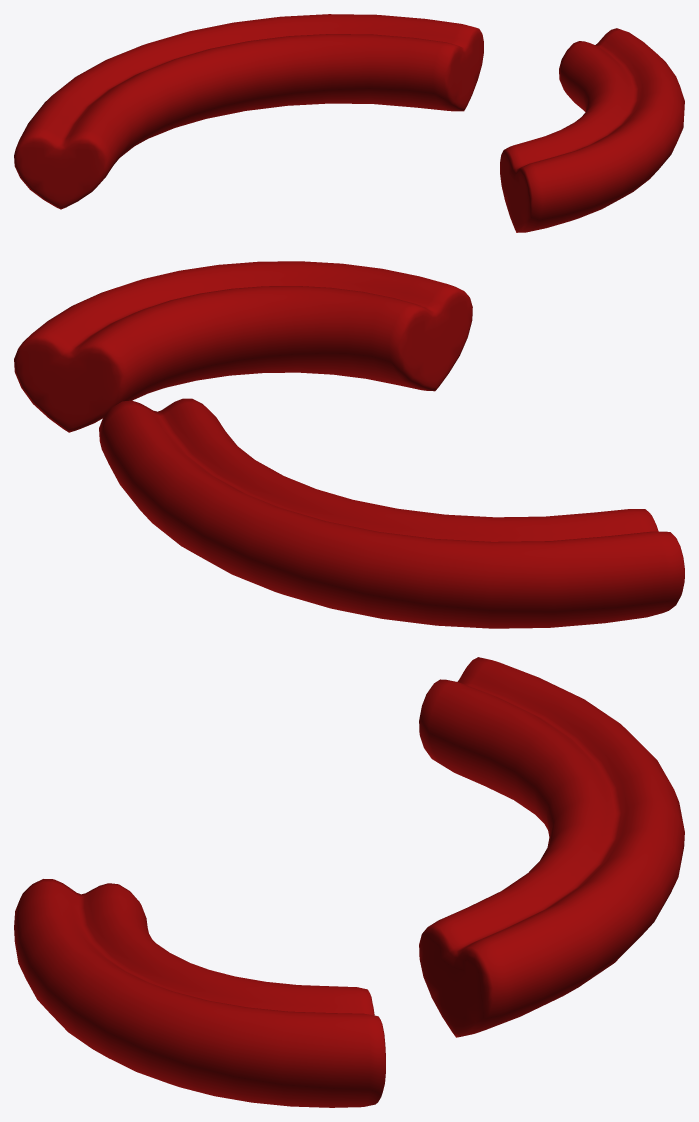
The model's file is red_heart_couch.fbx.
The picture shows the model from 3 angles, top to bottom: view 1: azimuth 30°, elevation 25°; view 2: azimuth 150°, elevation 25°; view 3: azimuth 270°, elevation 25°; orthographic projection. The views are drawn at different scales.
Parts seen in each view (by area): view 1: 05_033; view 2: 05_033; view 3: 05_033.
Boxes of the visible parts, x1=… form: 05_033: x1=14, y1=14, x2=684, y2=232; 05_033: x1=14, y1=261, x2=684, y2=628; 05_033: x1=14, y1=657, x2=684, y2=1107.
Size of the model in its own units: 295 by 37.7 by 217.
